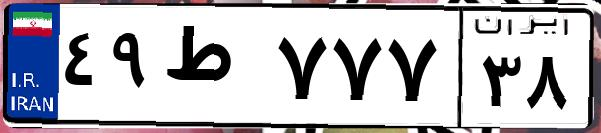3: (475, 38, 525, 113)
4: (57, 26, 110, 100)
7: (270, 28, 330, 110), (385, 28, 445, 110), (330, 28, 385, 110)
8: (525, 38, 570, 115)
9: (110, 28, 158, 98)
ط: (158, 20, 270, 120)
